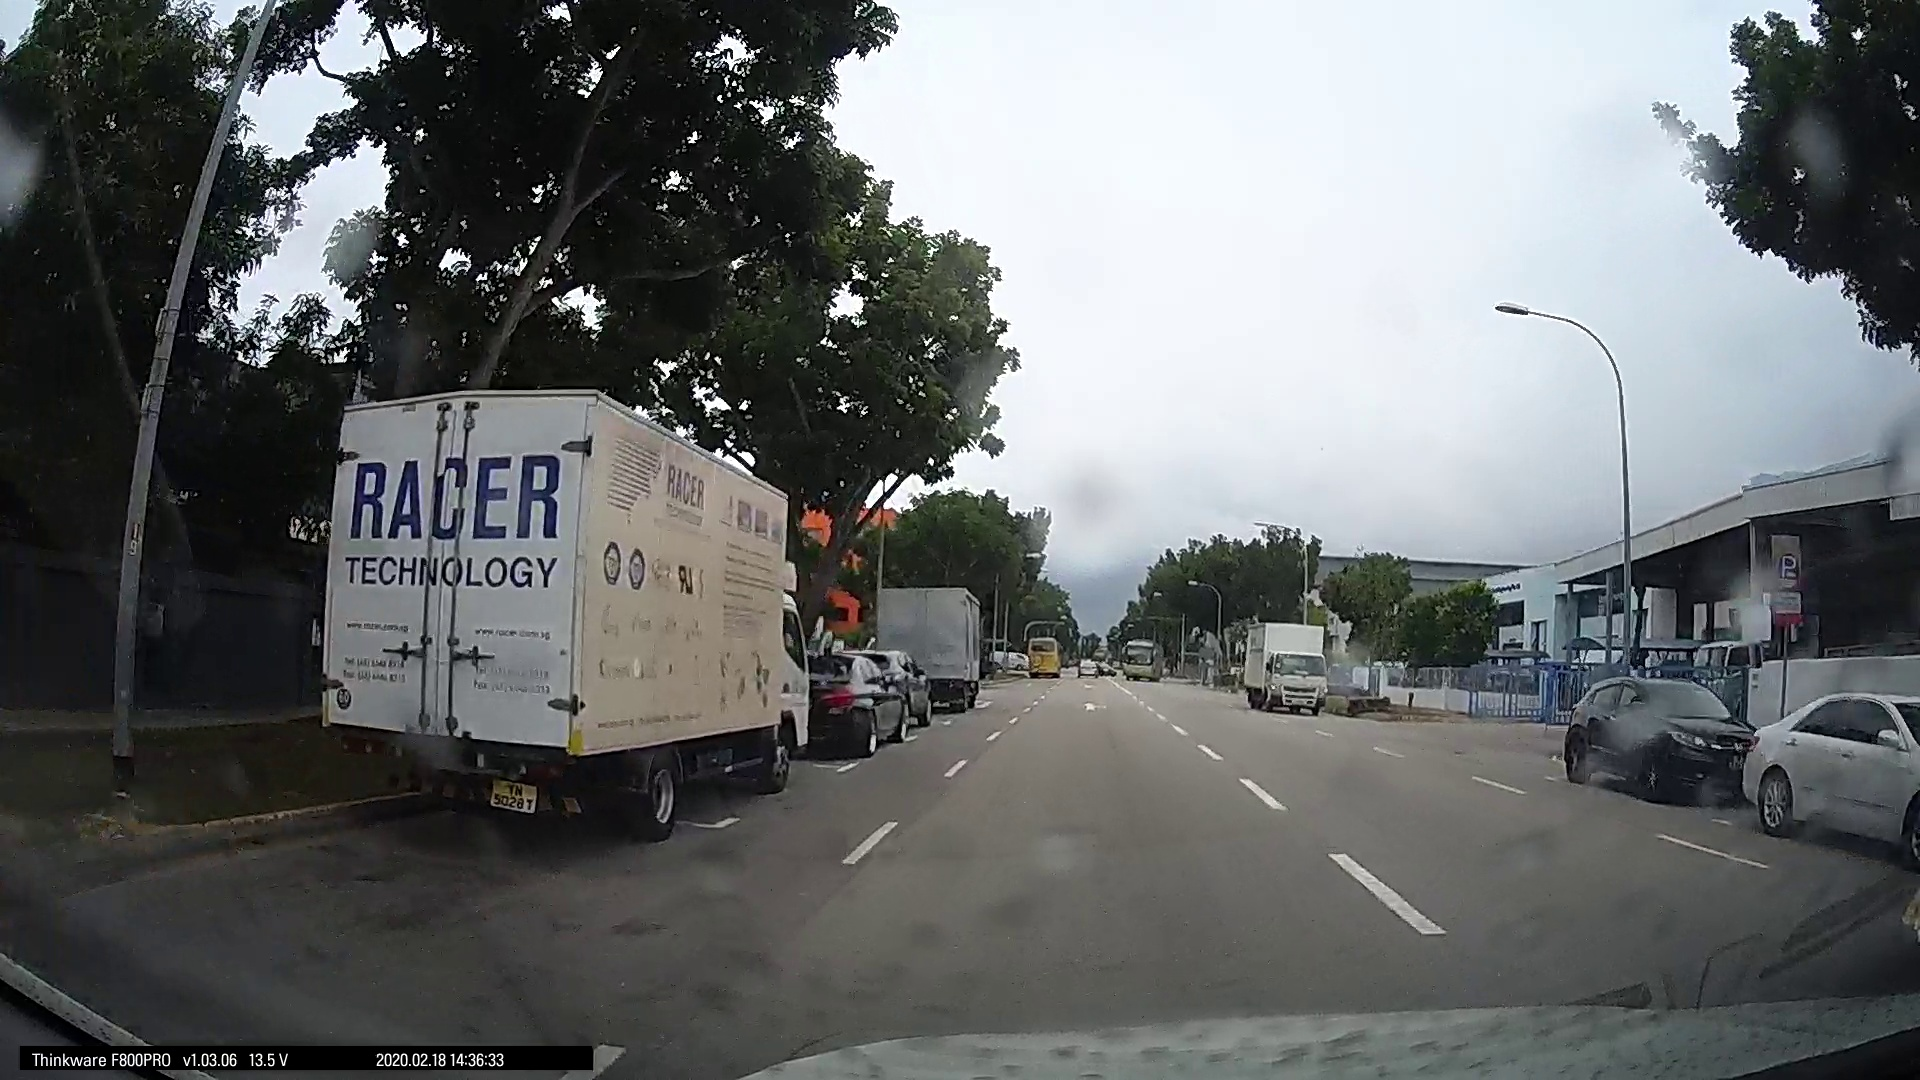Heavy Vehicle: (316, 382, 800, 847), (857, 574, 986, 717), (1236, 621, 1329, 716)
Light Vehicle: (1741, 682, 1917, 847), (1557, 666, 1754, 804), (802, 645, 905, 756)
